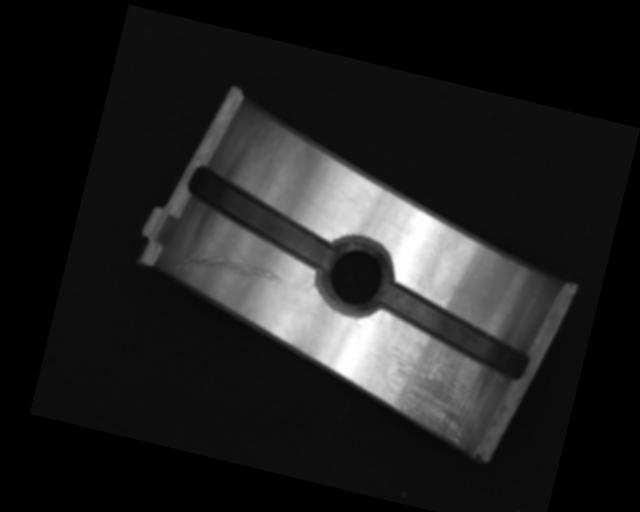gap: (175, 163, 346, 274), (367, 283, 540, 382)
hole: (312, 231, 398, 321)
nick: (171, 228, 289, 297)
scratch: (375, 332, 497, 454)
